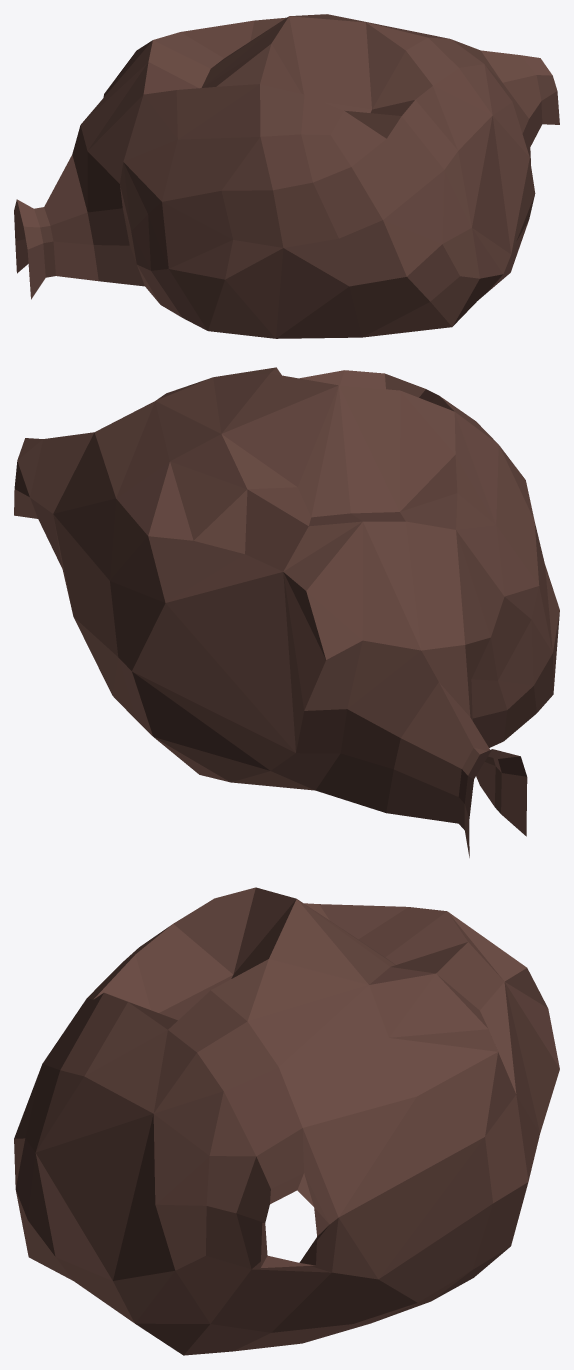
File: Dome-2exits-06.fbx
3 renders of one model, top to bottom at view 1: azimuth 30°, elevation 25°; view 2: azimuth 150°, elevation 25°; view 3: azimuth 270°, elevation 25°, orthographic. The views are drawn at different scales.
Parts seen in each view (by area): view 1: Dome-2exits-06; view 2: Dome-2exits-06; view 3: Dome-2exits-06.
Part boxes in pixels (<box>): Dome-2exits-06: <box>14,14,559,338</box>; Dome-2exits-06: <box>14,367,559,857</box>; Dome-2exits-06: <box>14,887,559,1355</box>.
Bounding box in the file's own units: 1746 × 2205 × 1268.
